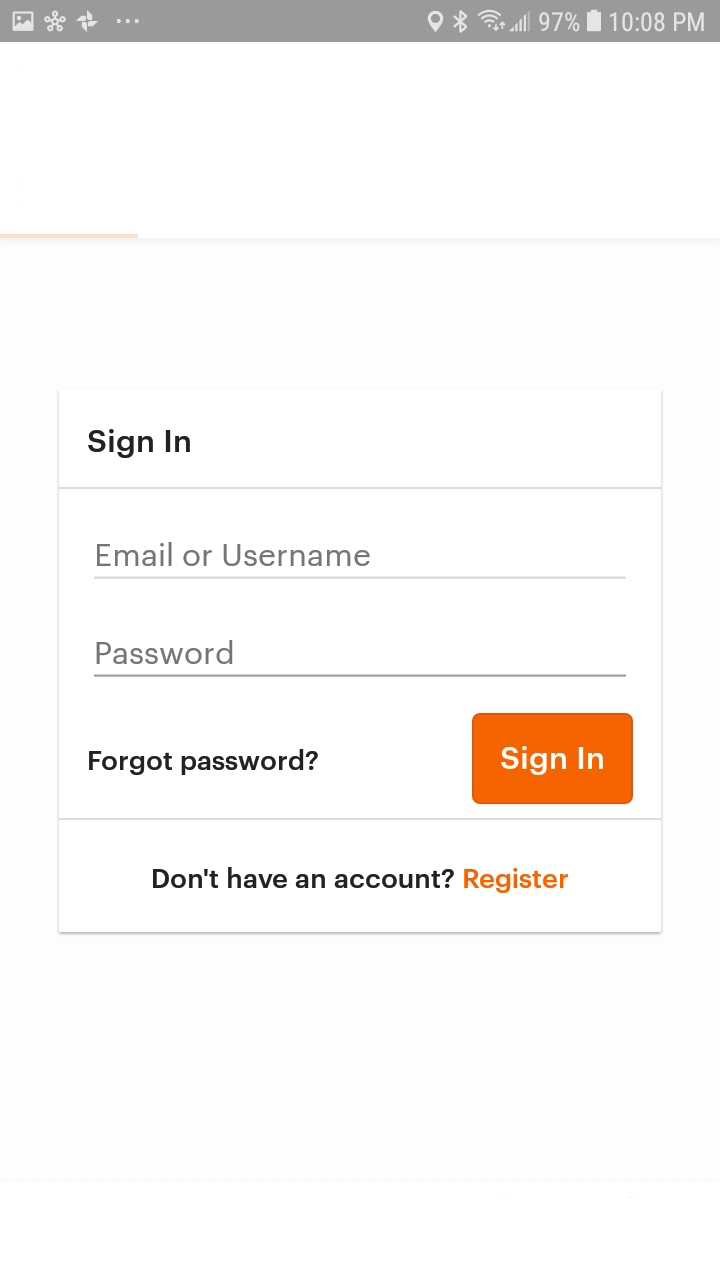EditText: (94, 541, 627, 580), (94, 640, 627, 678)
Text: (153, 867, 569, 894), (97, 541, 371, 567), (89, 749, 319, 776), (97, 640, 234, 665), (87, 429, 191, 460)
TextButton: (472, 713, 634, 805)
UpperTaskBar: (2, 1, 720, 43)
